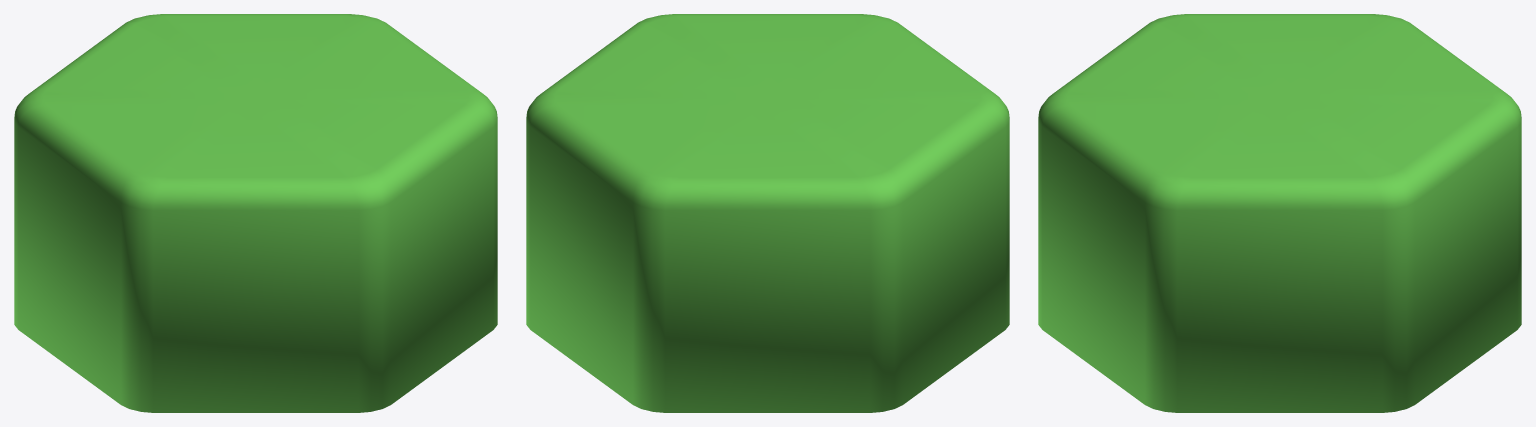
The model's file is Hexagonal_hijau .fbx.
3 views of the same model, side by side, from view 1: azimuth 30°, elevation 25°; view 2: azimuth 150°, elevation 25°; view 3: azimuth 270°, elevation 25° (orthographic).
Visible parts, largest first — view 1: Mesh_0.012; view 2: Mesh_0.012; view 3: Mesh_0.012.
Part boxes in pixels (x1=…): Mesh_0.012: x1=14, y1=14, x2=497, y2=412; Mesh_0.012: x1=526, y1=14, x2=1009, y2=412; Mesh_0.012: x1=1038, y1=14, x2=1521, y2=412.
Size of the model in its own units: 8.66 by 5 by 9.73.
